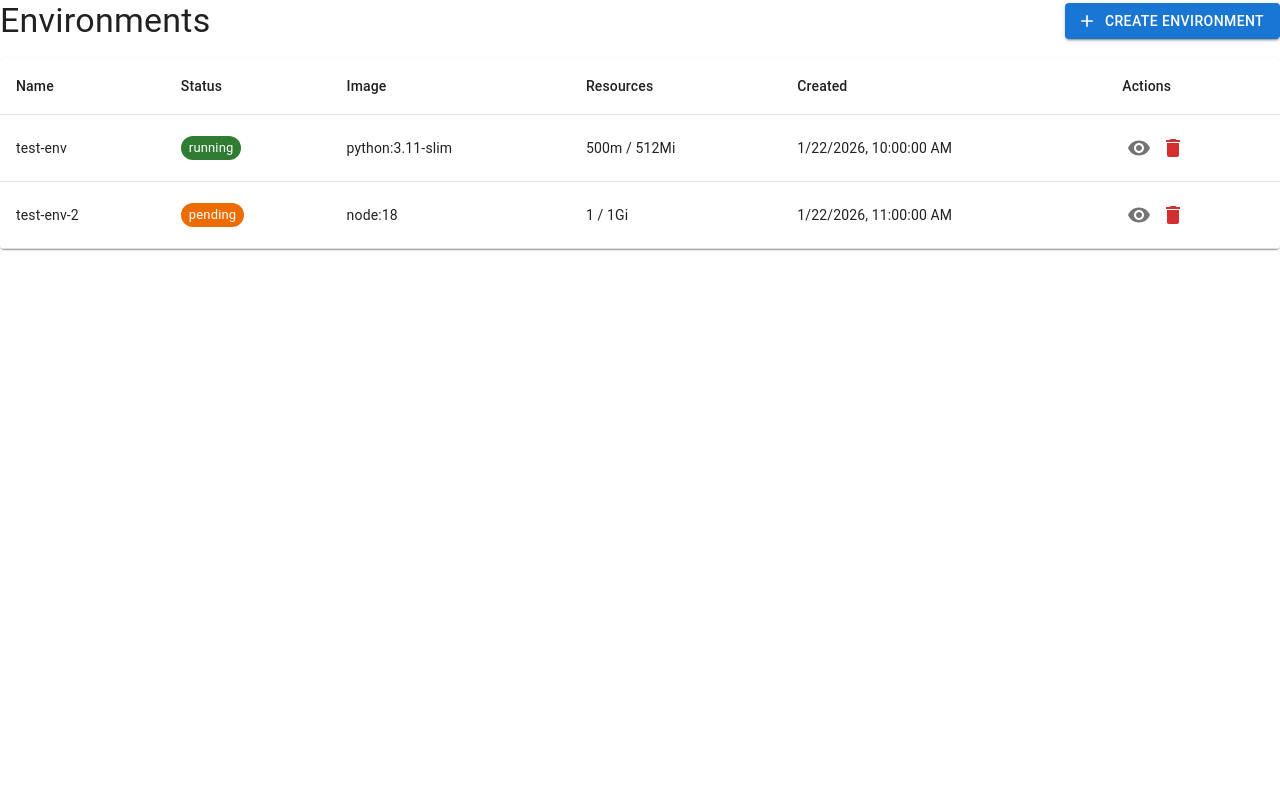
Scenario: EnvironmentsPage › can add multiple tolerations
Click the button "Create Environment": (1172, 21) [1065, 3, 1279, 39]
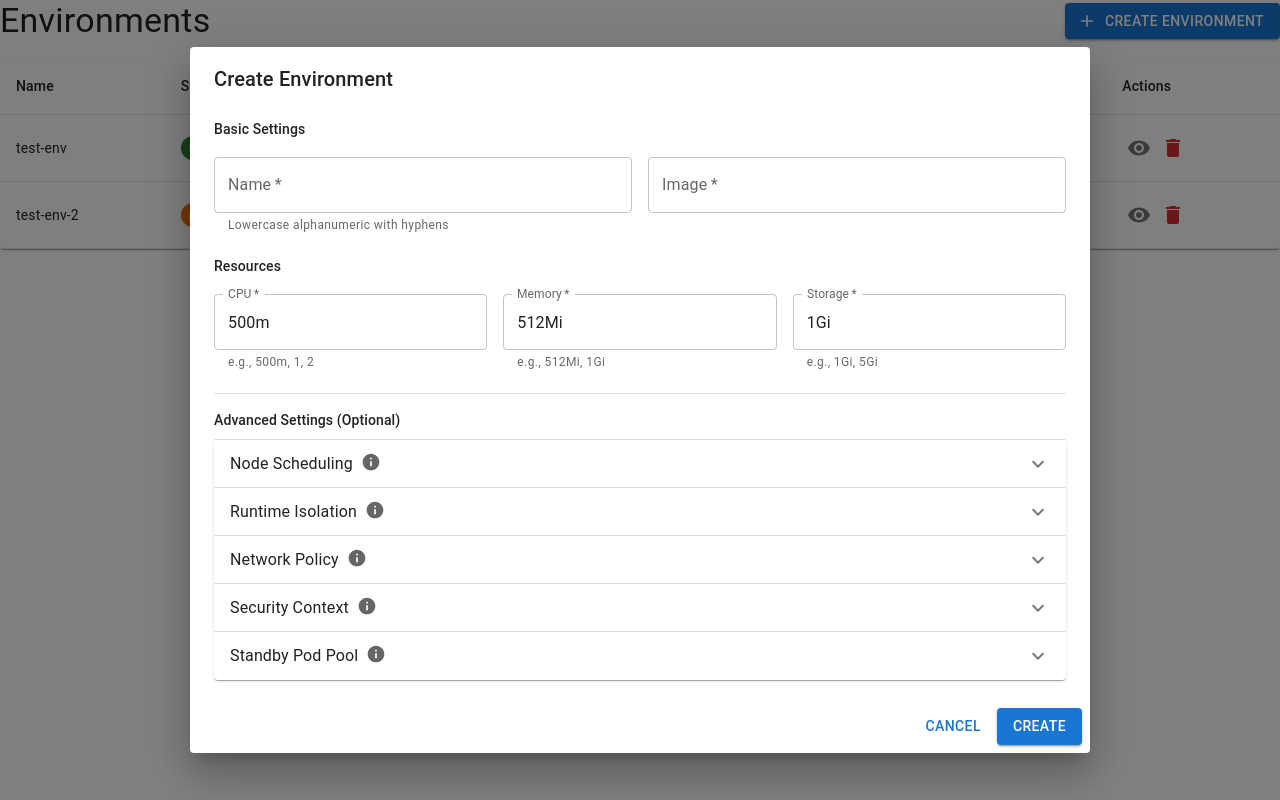
Expected: the dialog is shown
# Expand Node Scheduling accordion and wait for content to be visible
Click the button "Node Scheduling": (291, 464) [230, 452, 1050, 476]
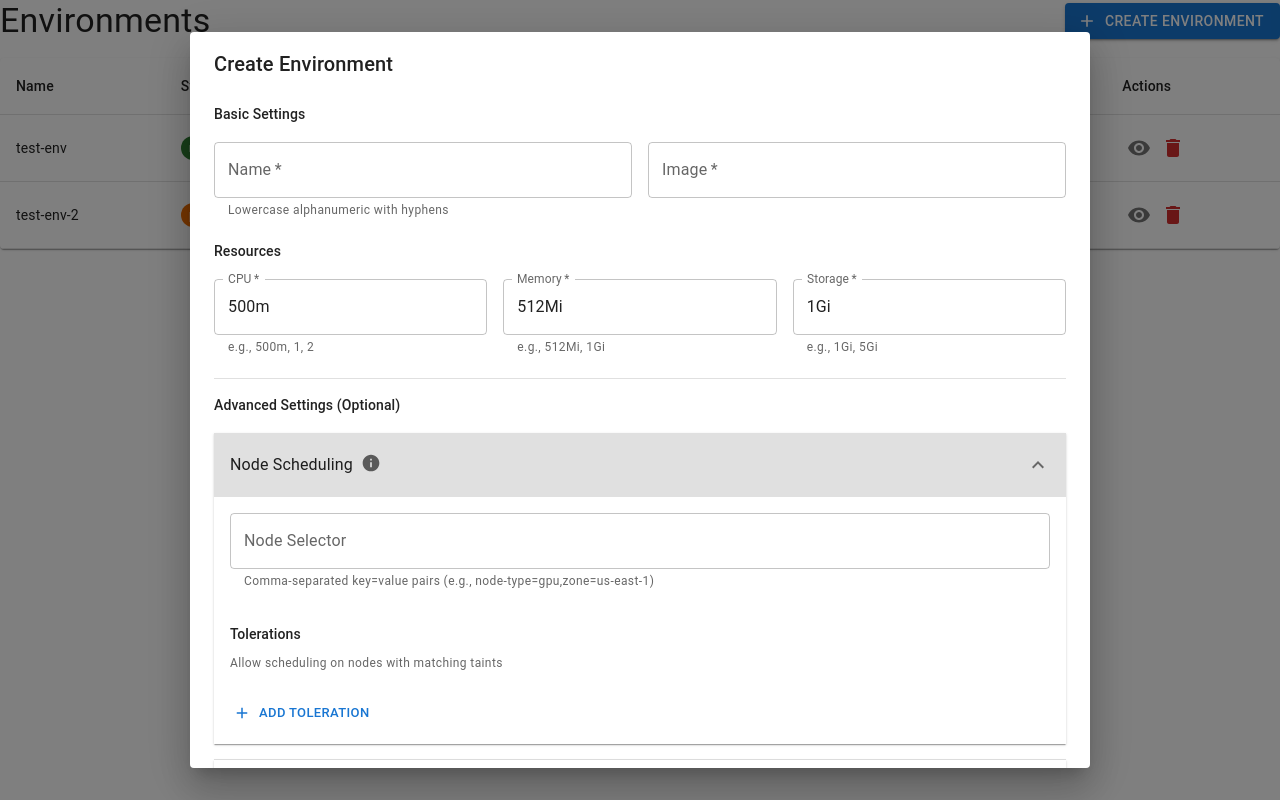
# Add first toleration
Click the button "Add Toleration": (302, 713) [230, 698, 375, 728]
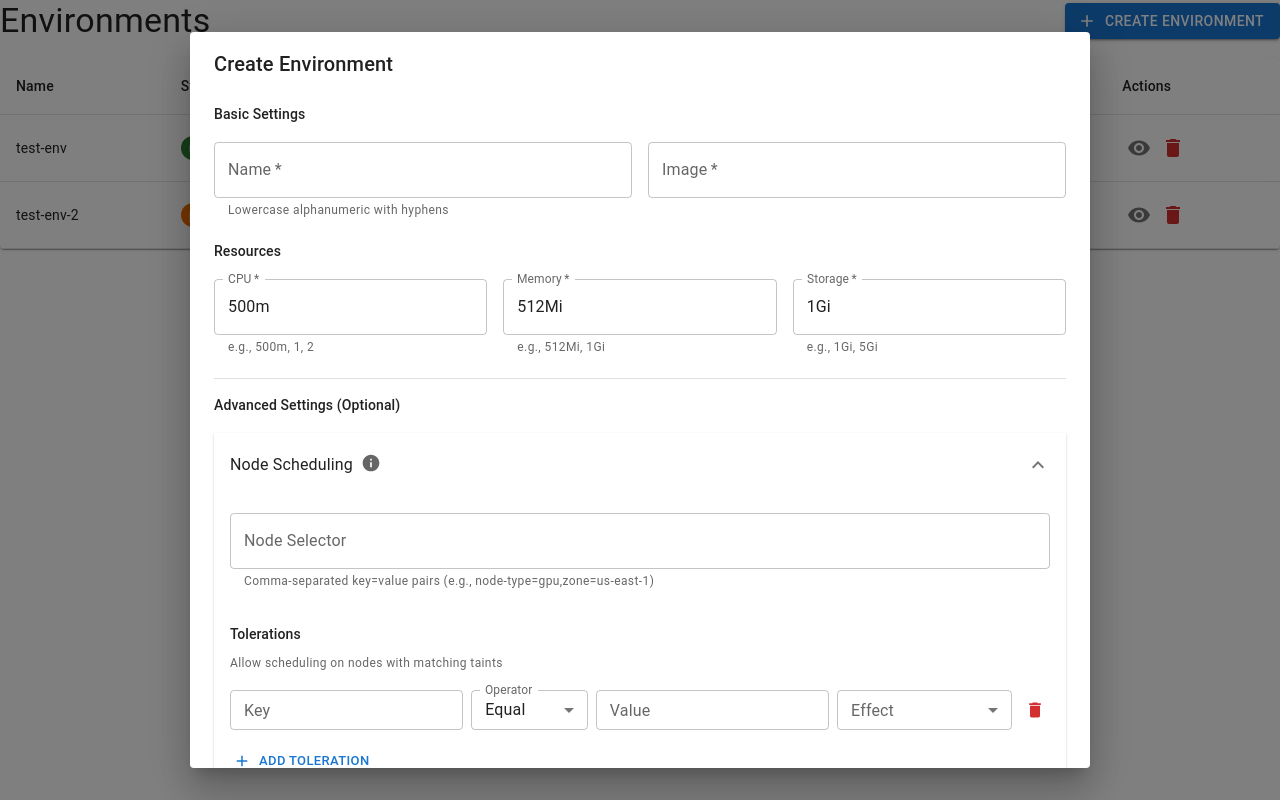
Expected: the number of fields labelled "Key" is 1, [230, 690, 463, 730]
# Add second toleration - re-query the button to ensure it's still in the DOM
Click the button "Add Toleration": (302, 761) [230, 746, 375, 776]
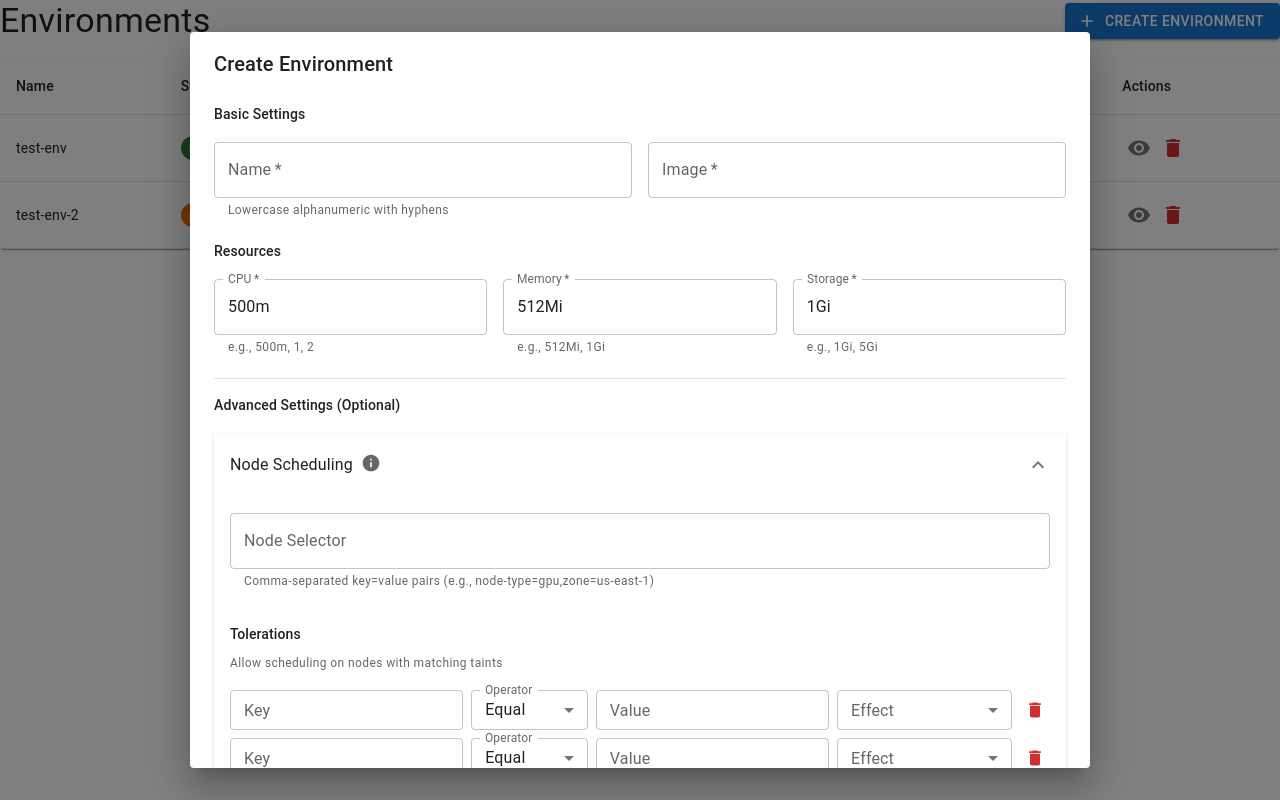
Expected: the number of fields labelled "Key" is 2, [230, 690, 463, 730]; [230, 738, 463, 768]
